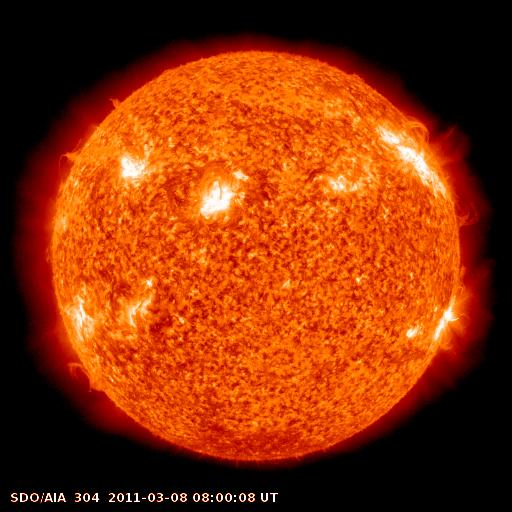prominence: (433, 127, 495, 237), (50, 121, 98, 199), (60, 355, 114, 400), (397, 94, 431, 148), (96, 84, 140, 122)
